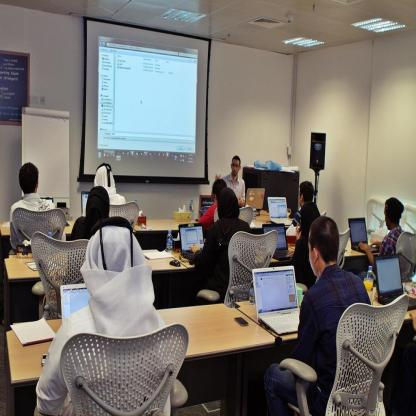board: (252, 268, 301, 332), (373, 253, 416, 312), (347, 216, 380, 256), (60, 285, 92, 324), (262, 224, 294, 261), (177, 222, 205, 262), (267, 198, 292, 226), (247, 188, 264, 209), (21, 196, 53, 204), (366, 264, 373, 293), (81, 192, 89, 214), (166, 229, 173, 252), (189, 198, 194, 220), (201, 206, 210, 217), (253, 204, 257, 222)
